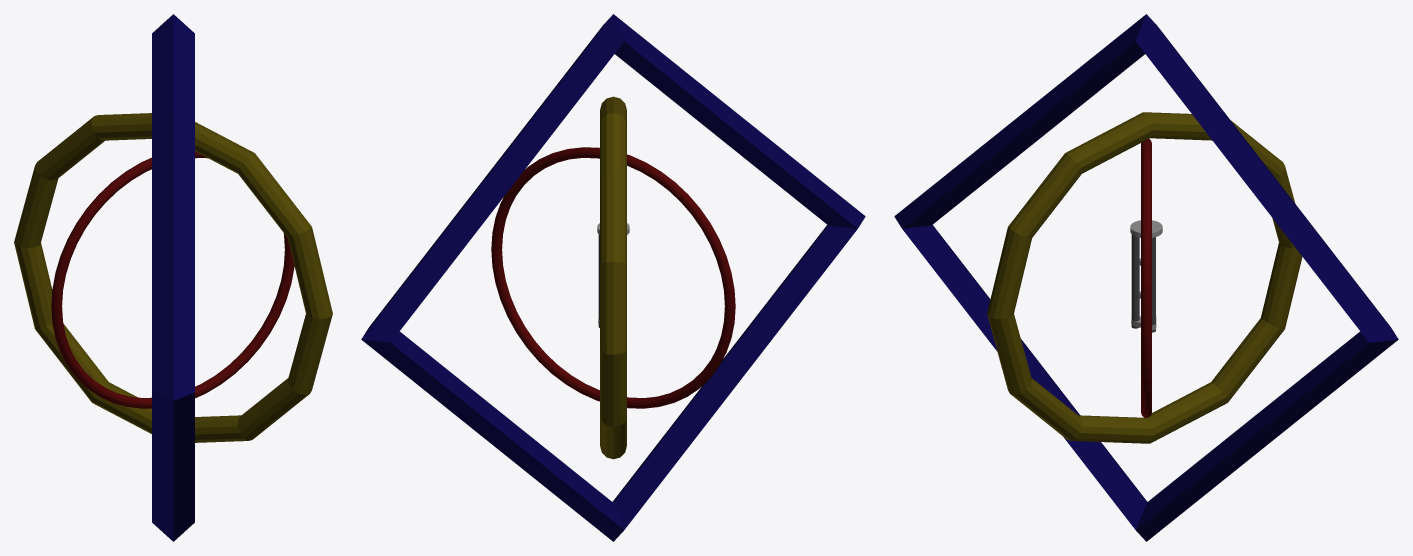
The model's file is gatling.glb.
The picture shows the model from 3 angles, left to right: view 1: azimuth 30°, elevation 25°; view 2: azimuth 150°, elevation 25°; view 3: azimuth 270°, elevation 25°; orthographic projection.
Parts seen in each view (by area): view 1: Torus.006, Torus.005, Torus; view 2: Torus.006, Torus.005, Torus; view 3: Torus.006, Torus.005, Torus, Cylinder.
Boxes of the visible parts, x1,y1,x2,y2 form: Torus.006: (152,14,194,541); Torus.005: (14,113,332,442); Torus: (51,151,294,408); Torus.006: (361,14,865,541); Torus.005: (600,96,626,459); Torus: (491,147,735,408); Torus.006: (894,14,1398,541); Torus.005: (987,112,1302,443); Torus: (1141,139,1151,417); Cylinder: (1130,220,1162,332).
Size of the model in its own units: 114 by 216 by 187.
